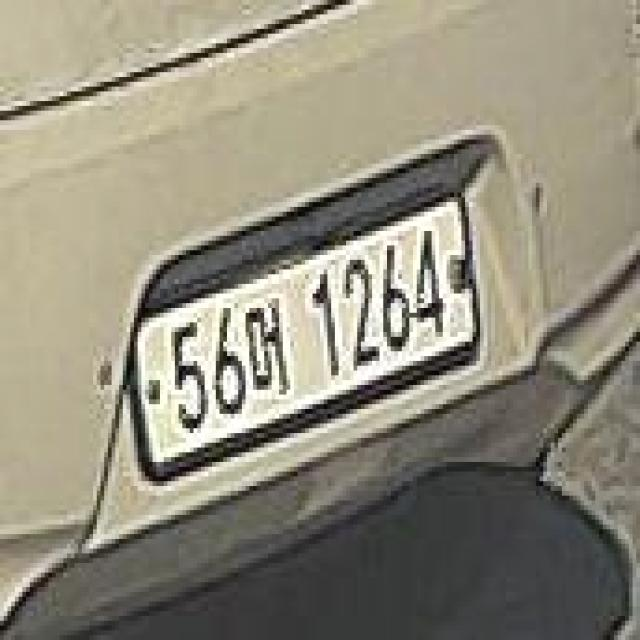illegal_plate: (130, 190, 480, 482)
